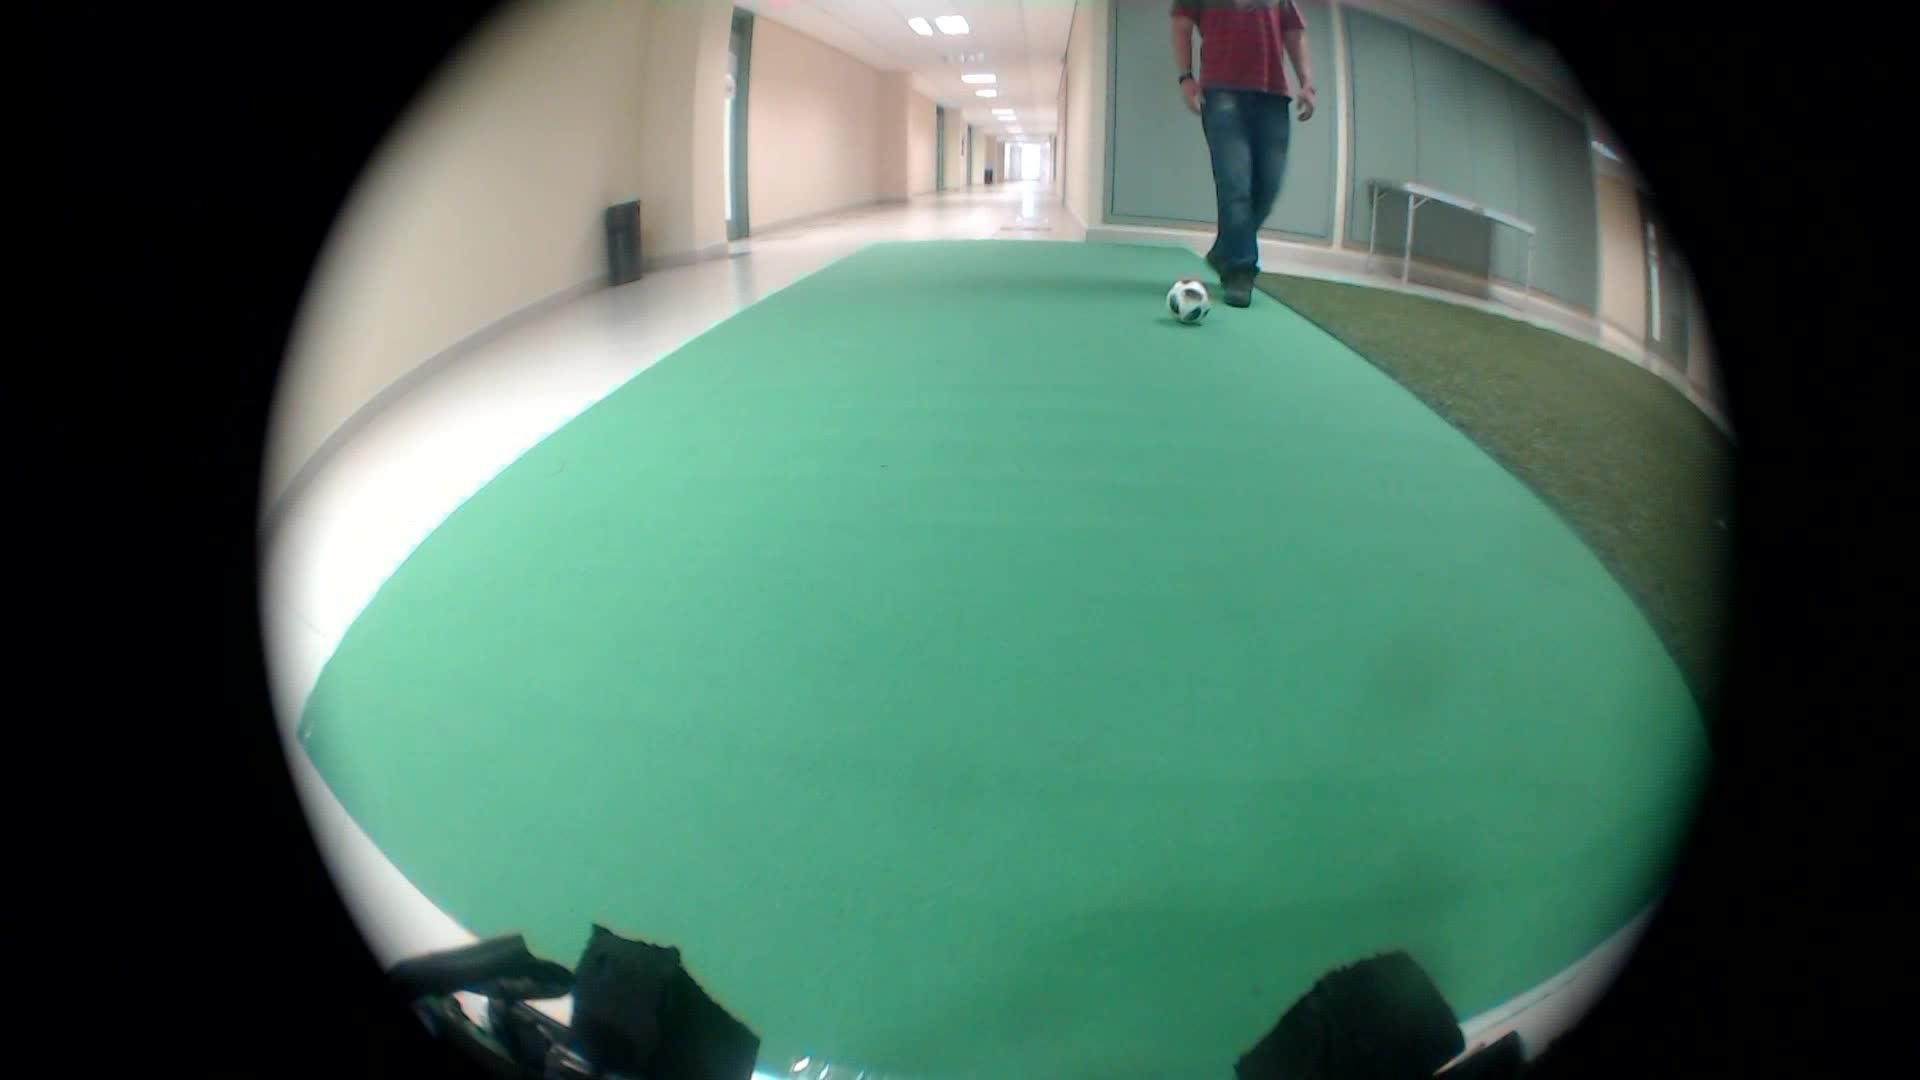ball: (1159, 269, 1220, 332)
